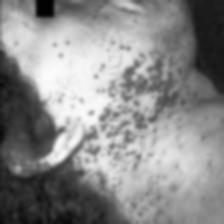Toxin: (124, 44, 185, 224), (52, 33, 102, 180)
